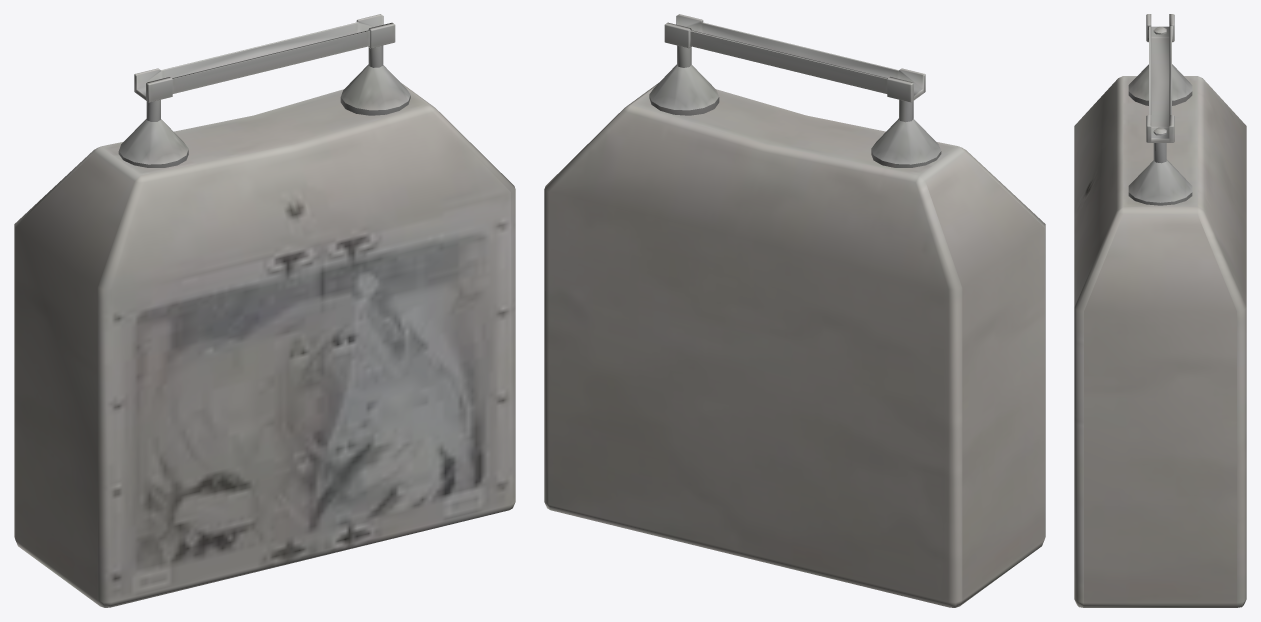
Rendered from crew-lock-bag.glb.
3 views of the same model, side by side, from view 1: azimuth 30°, elevation 25°; view 2: azimuth 150°, elevation 25°; view 3: azimuth 270°, elevation 25° (orthographic). The views are drawn at different scales.
Parts seen in each view (by area): view 1: crewlockba; view 2: crewlockba; view 3: crewlockba.
Part boxes in pixels (bbox=[...]): crewlockba: bbox=[14, 14, 515, 607]; crewlockba: bbox=[544, 14, 1045, 607]; crewlockba: bbox=[1074, 14, 1246, 607].
Size of the model in its own units: 14.05 by 15.46 by 5.41.
1 material, 1 textured.
